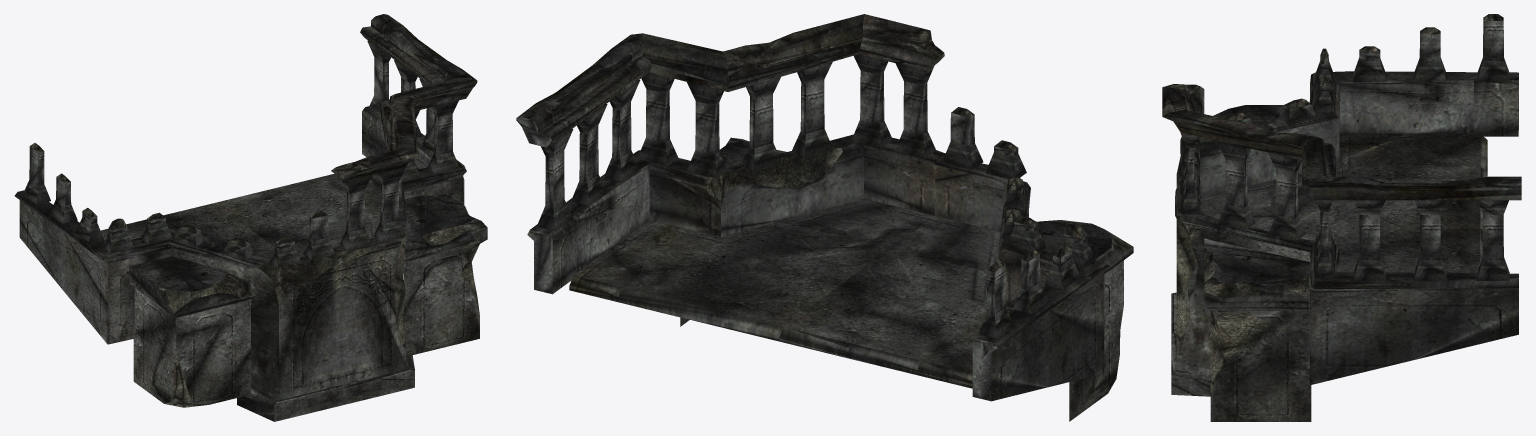
3 views of the same model, side by side, from view 1: azimuth 30°, elevation 25°; view 2: azimuth 150°, elevation 25°; view 3: azimuth 270°, elevation 25° (orthographic). The views are drawn at different scales.
Visible parts, largest first — view 1: mesh1, mesh0; view 2: mesh1, mesh0; view 3: mesh1, mesh0.
Part boxes in pixels (bbox=[...]): mesh1: bbox=[14, 14, 487, 421]; mesh0: bbox=[30, 143, 486, 407]; mesh1: bbox=[516, 14, 1133, 421]; mesh0: bbox=[705, 28, 1133, 272]; mesh1: bbox=[1162, 21, 1521, 421]; mesh0: bbox=[1163, 14, 1503, 393].
Bounding box in the file's own units: 3.49 × 2.12 × 2.44.
2 materials, 2 textured.
